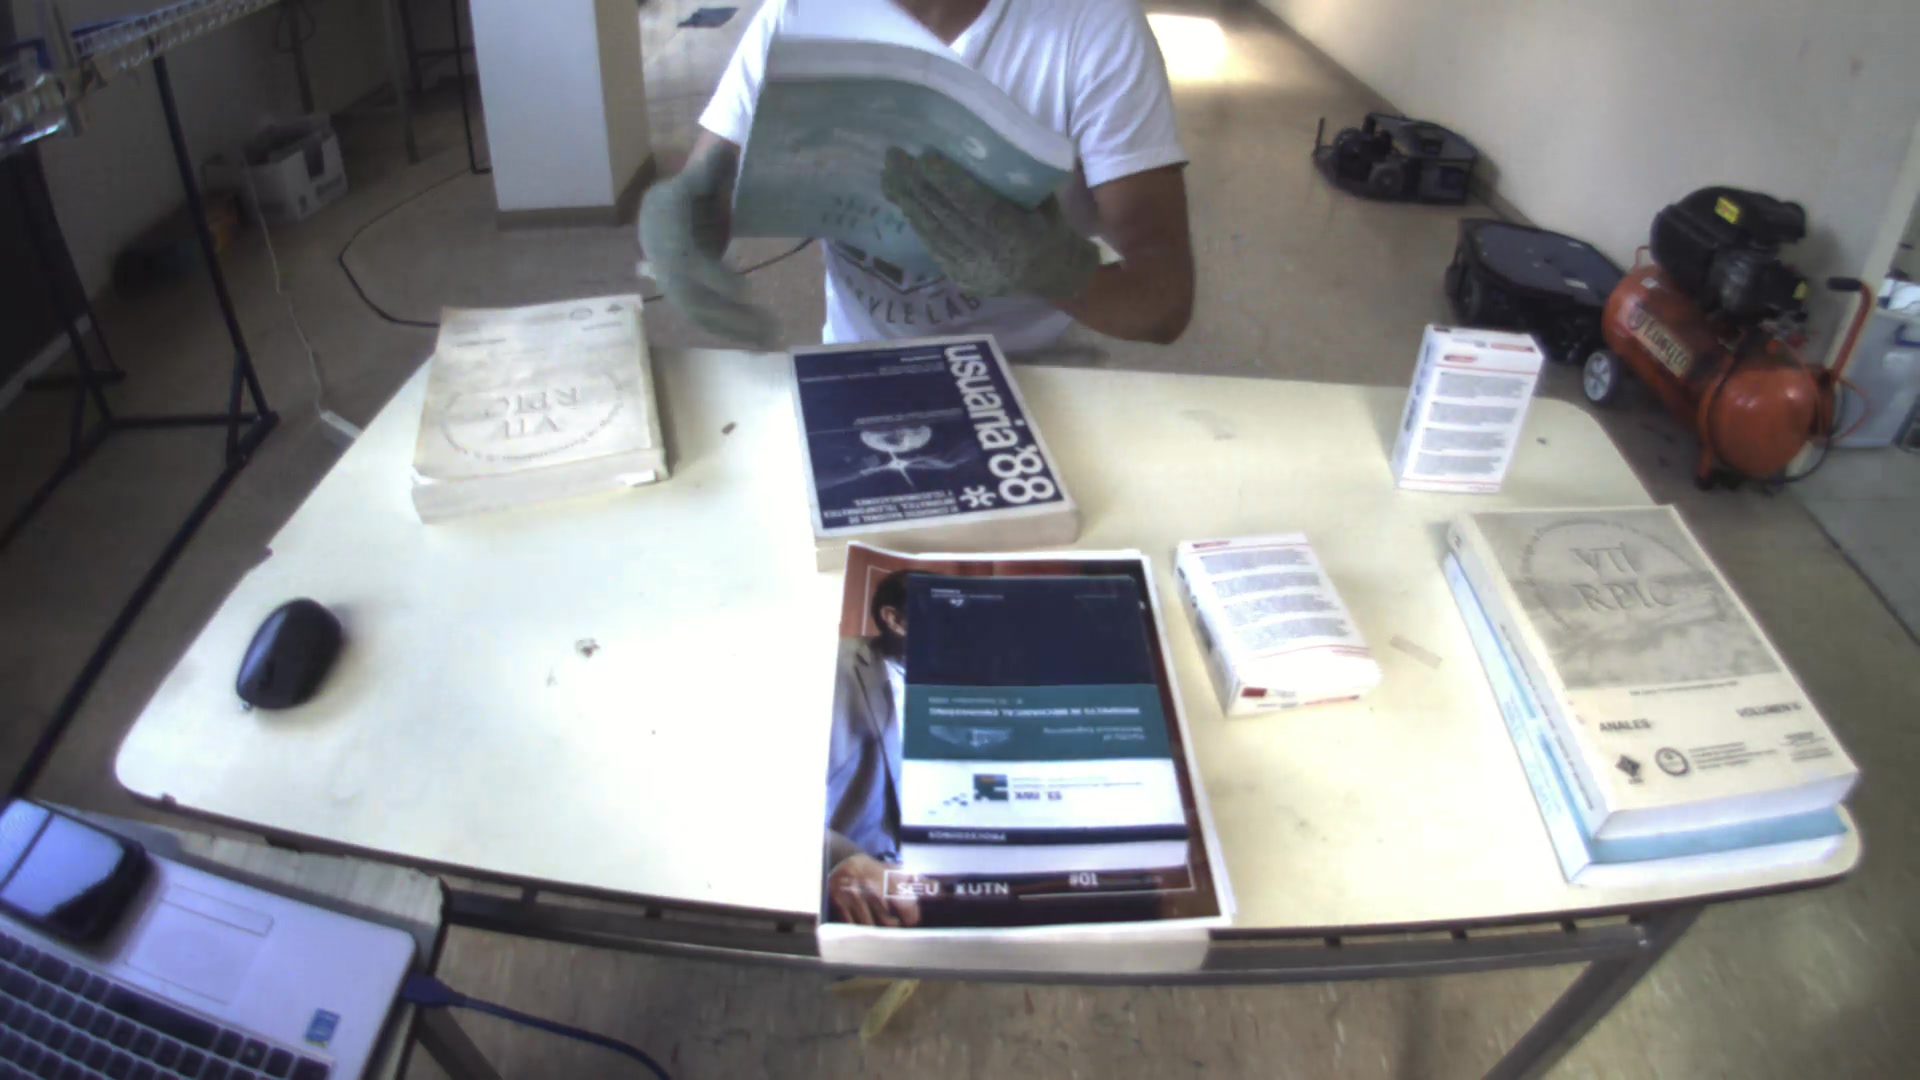hand: (628, 127, 794, 357), (880, 145, 1108, 295)
